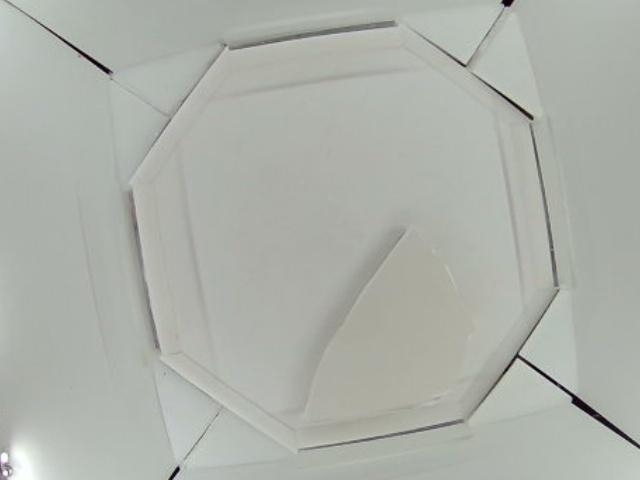China: (300, 224, 470, 429)
